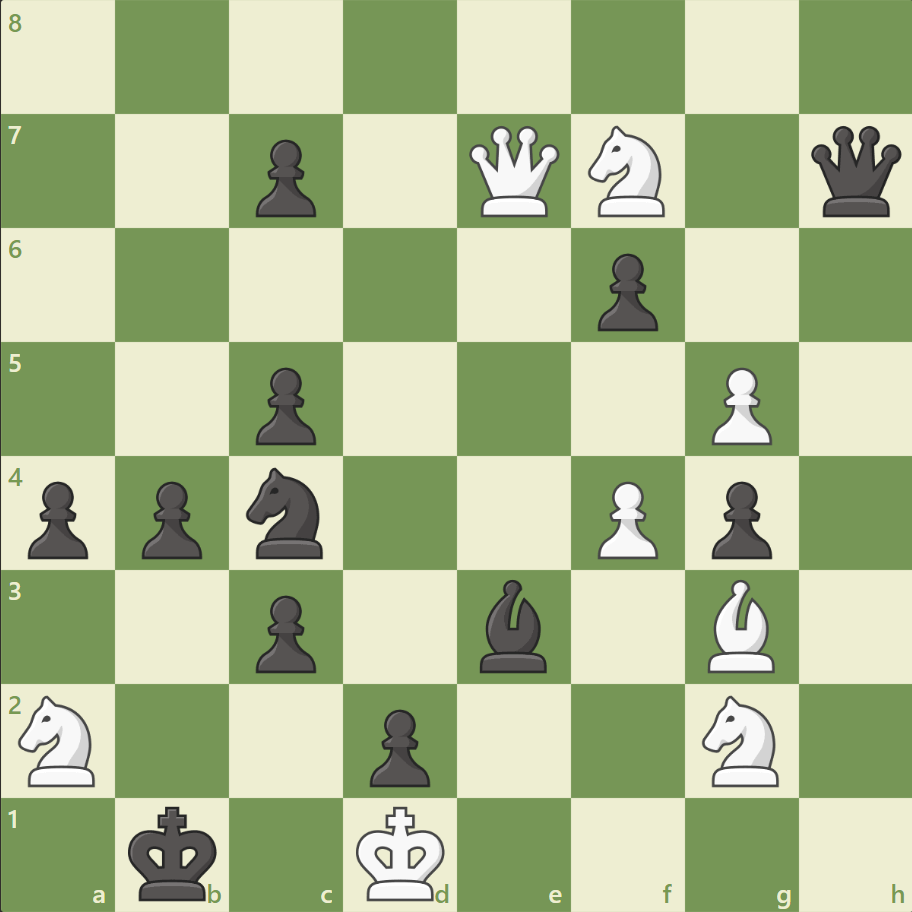B: (698, 574, 782, 676)
K: (351, 798, 451, 906)
N: (11, 688, 108, 791), (692, 688, 789, 791), (579, 121, 676, 223)
P: (701, 359, 776, 450), (588, 473, 662, 564)
Q: (464, 122, 563, 222)
b: (471, 574, 555, 676)
k: (124, 798, 224, 906)
n: (238, 461, 335, 564)
p: (247, 132, 322, 223), (247, 359, 322, 450), (20, 473, 95, 564), (133, 473, 208, 564), (701, 473, 776, 564), (247, 586, 322, 677), (588, 246, 662, 337), (361, 700, 435, 791)
q: (805, 122, 904, 222)
